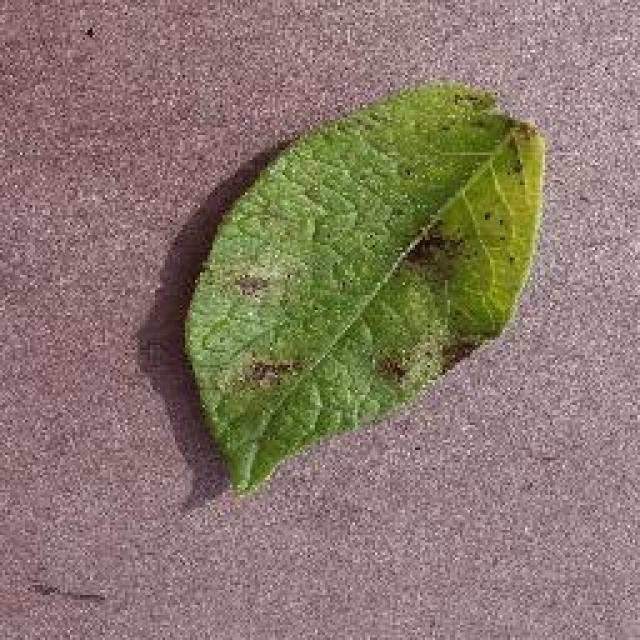Late_blight: (400, 209, 470, 276), (246, 347, 326, 404), (233, 258, 299, 312)
